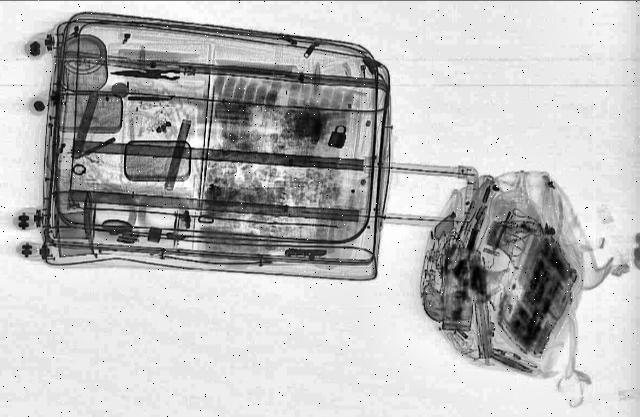Knife: (110, 66, 180, 80)
